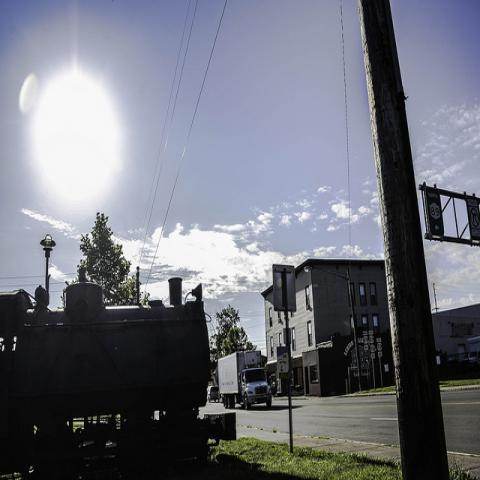truck: (217, 349, 273, 411)
